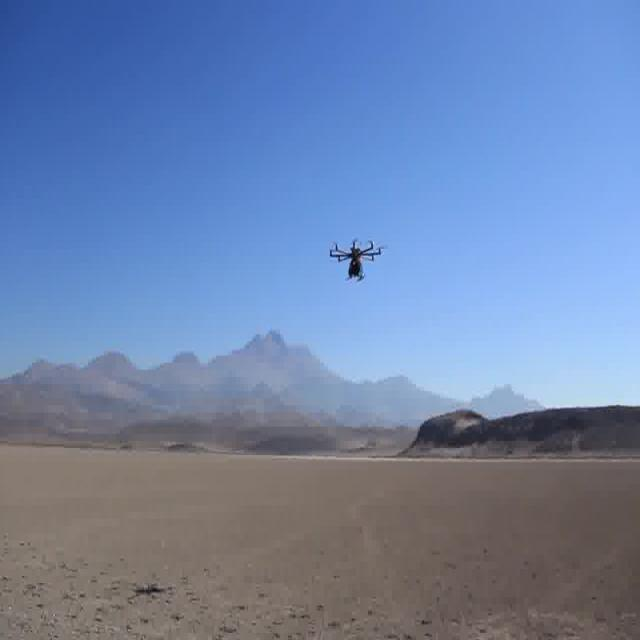drone: (324, 230, 388, 284)
